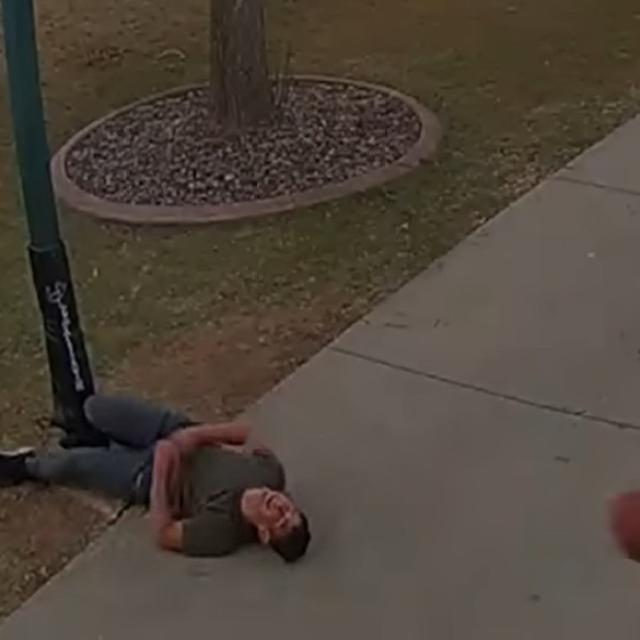fallen: (0, 397, 310, 561)
